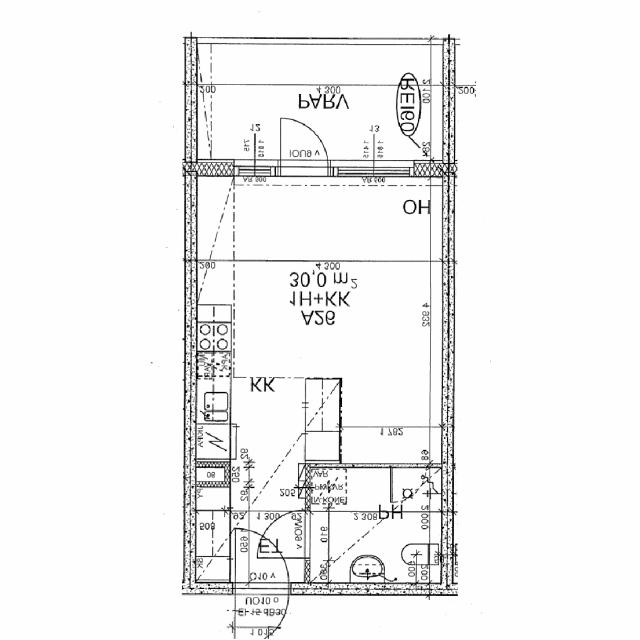door: (234, 529, 288, 595), (235, 582, 289, 640), (280, 112, 328, 177), (257, 510, 311, 558)
